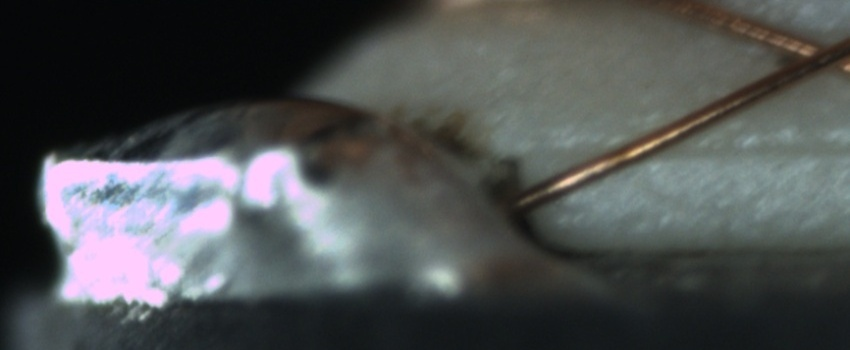CL: (761, 24, 849, 88)
DL: (556, 117, 850, 180)
